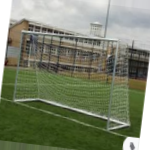goals: (14, 29, 131, 131)
